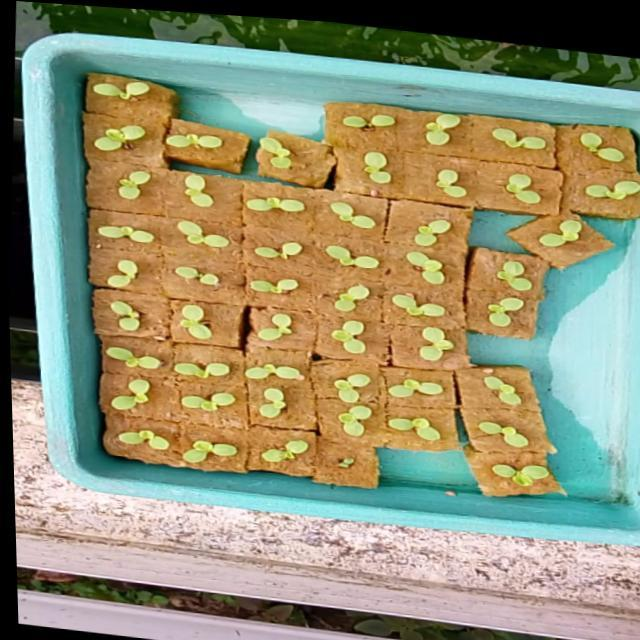Baby: (504, 214, 565, 255), (549, 127, 617, 163), (78, 163, 145, 195), (358, 371, 416, 404), (382, 249, 440, 281), (471, 126, 536, 153), (138, 263, 204, 289), (542, 165, 599, 194), (370, 286, 423, 317), (222, 306, 270, 340), (64, 297, 108, 333), (68, 343, 132, 367), (150, 216, 203, 244), (465, 461, 524, 485), (475, 253, 513, 290), (452, 418, 502, 445), (301, 242, 354, 266), (149, 440, 204, 463), (147, 301, 181, 338), (392, 324, 428, 358), (76, 376, 114, 408), (303, 316, 337, 351), (229, 438, 277, 462), (458, 373, 495, 404), (84, 428, 136, 450), (404, 111, 439, 143), (305, 371, 342, 401), (391, 214, 428, 244), (309, 401, 343, 433), (481, 171, 516, 202), (225, 237, 279, 257), (362, 420, 413, 441), (213, 362, 275, 379), (141, 359, 199, 377), (68, 220, 125, 238), (308, 282, 345, 309), (157, 170, 187, 203), (340, 148, 368, 180), (77, 256, 109, 283), (464, 302, 500, 326), (414, 166, 443, 195), (228, 386, 255, 417), (309, 199, 342, 224), (224, 275, 272, 291), (149, 394, 193, 409)
